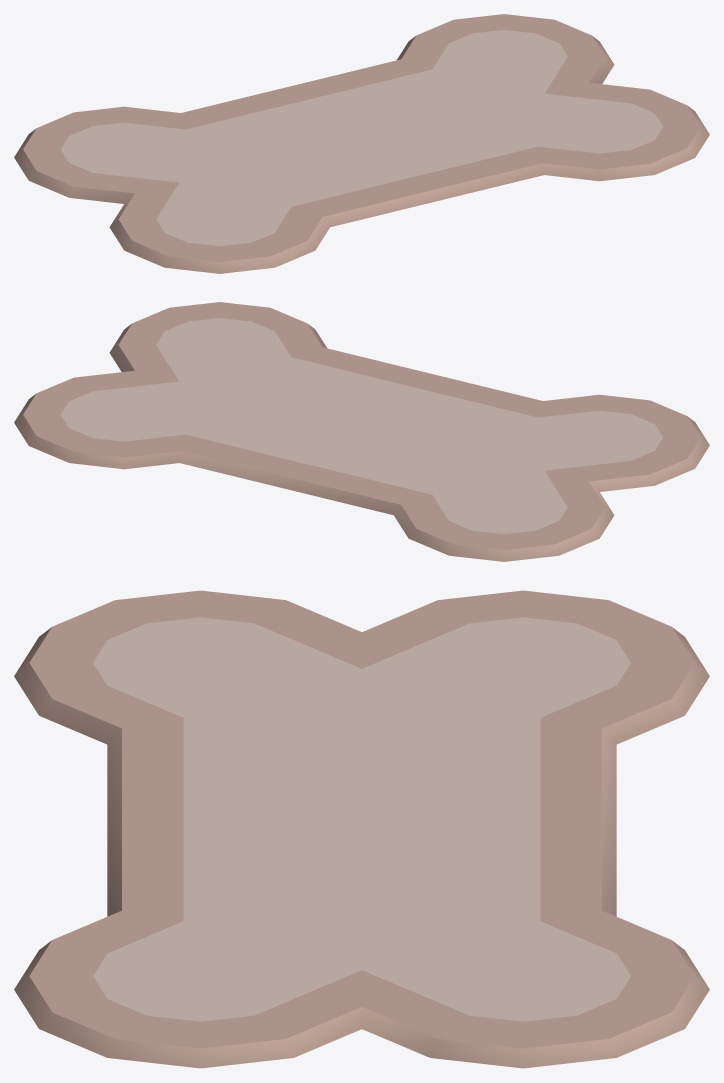
Rendered from carpet-pet-bone.glb.
3 views of the same model, one above another, from view 1: azimuth 30°, elevation 25°; view 2: azimuth 150°, elevation 25°; view 3: azimuth 270°, elevation 25° (orthographic). The views are drawn at different scales.
Parts seen in each view (by area): view 1: carpet-pet-bone; view 2: carpet-pet-bone; view 3: carpet-pet-bone.
Boxes of the visible parts, left/top/right/bottom form: carpet-pet-bone: left=14, top=14, right=709, bottom=273; carpet-pet-bone: left=14, top=302, right=709, bottom=561; carpet-pet-bone: left=14, top=590, right=709, bottom=1068.
Size of the model in its own units: 1.88 by 0.025 by 1.17.
